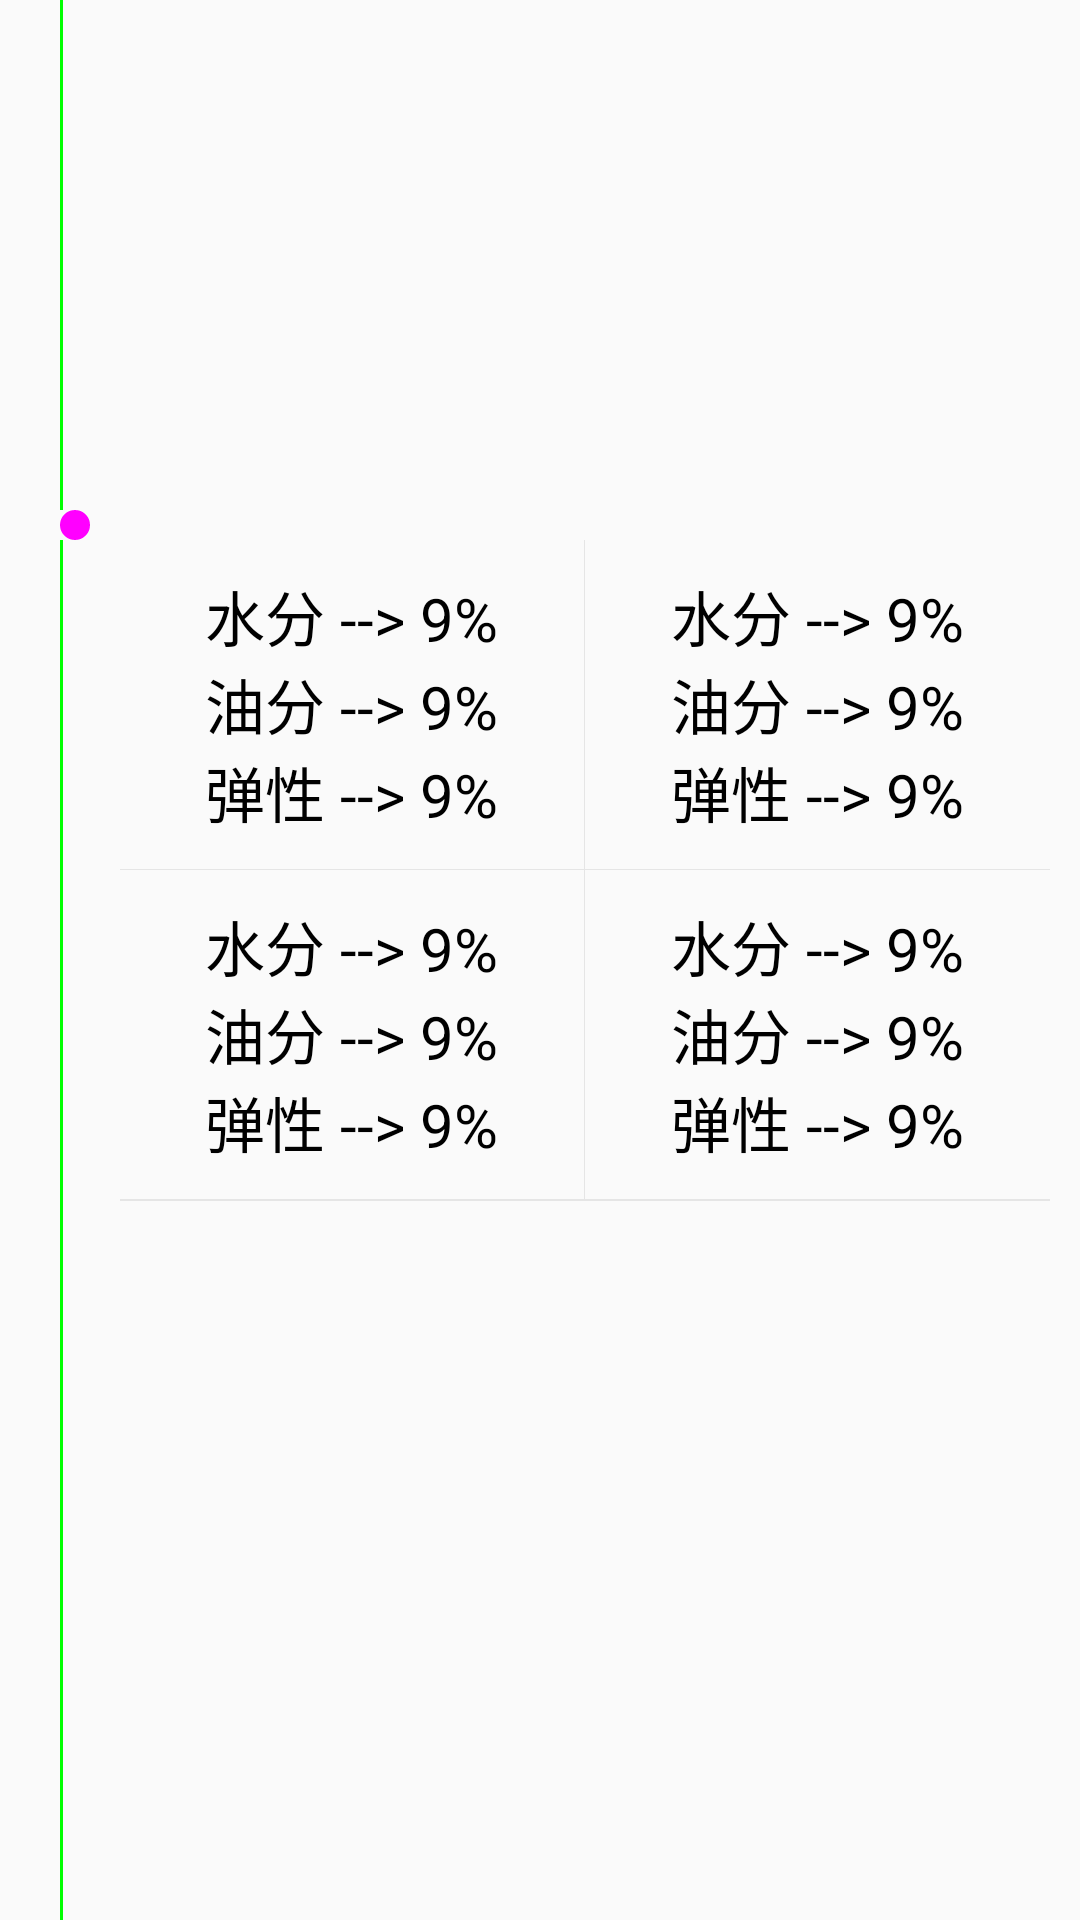

Point at icon controls on the screen. Image size 1080×1920, points as (x,y).
dot choiced: (75,525)
